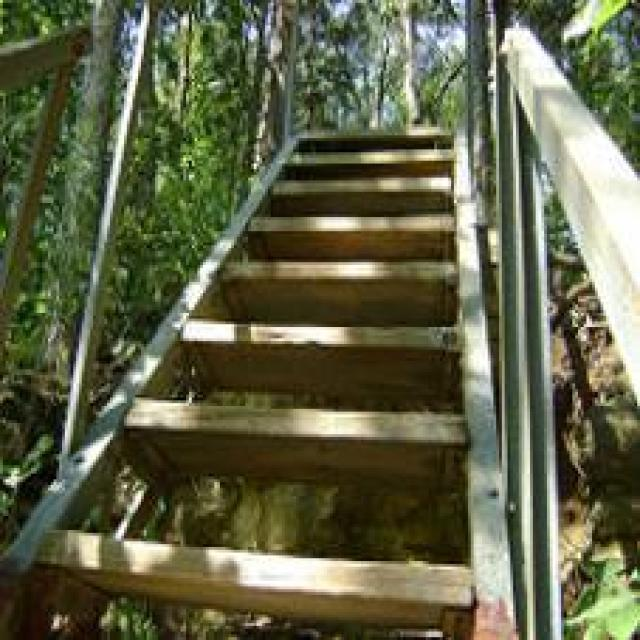upstair: (86, 218, 469, 585)
